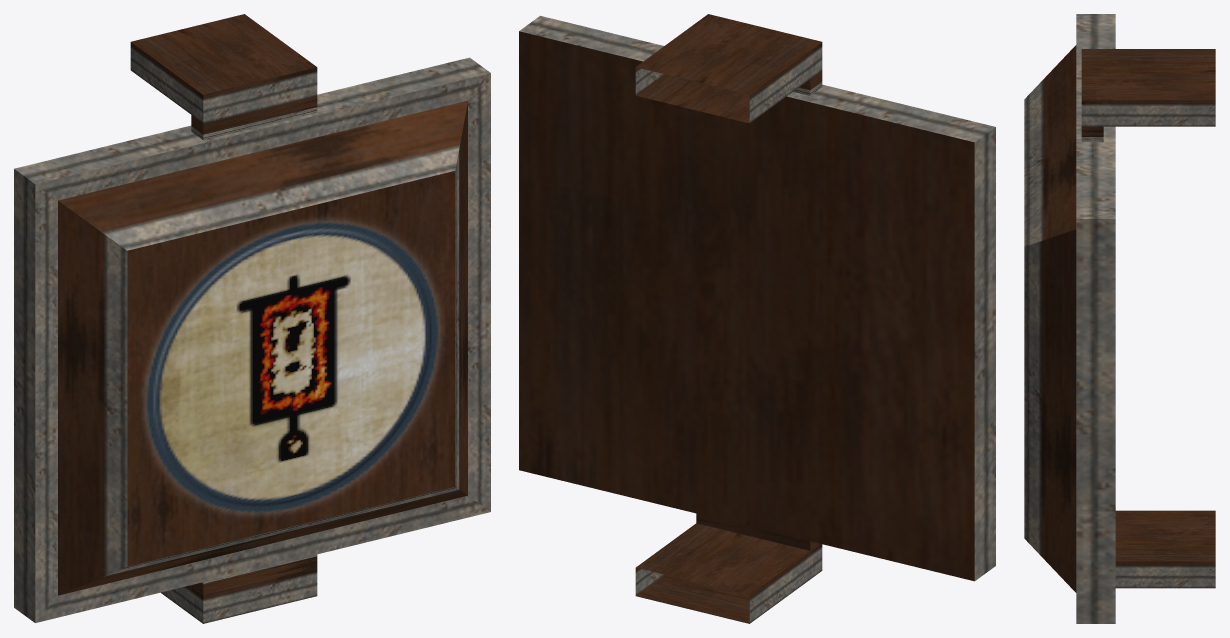
Rendered from placa06.fbx.
The picture shows the model from 3 angles, left to right: view 1: azimuth 30°, elevation 25°; view 2: azimuth 150°, elevation 25°; view 3: azimuth 270°, elevation 25°; orthographic projection. The views are drawn at different scales.
Visible parts, largest first — view 1: Cube.002; view 2: Cube.002; view 3: Cube.002.
Part boxes in pixels (x1,y1,x2,y2): Cube.002: [14, 14, 490, 623]; Cube.002: [519, 14, 995, 623]; Cube.002: [1024, 14, 1215, 623].
Bounding box in the file's own units: 0.8892 × 0.9865 × 0.3503.
